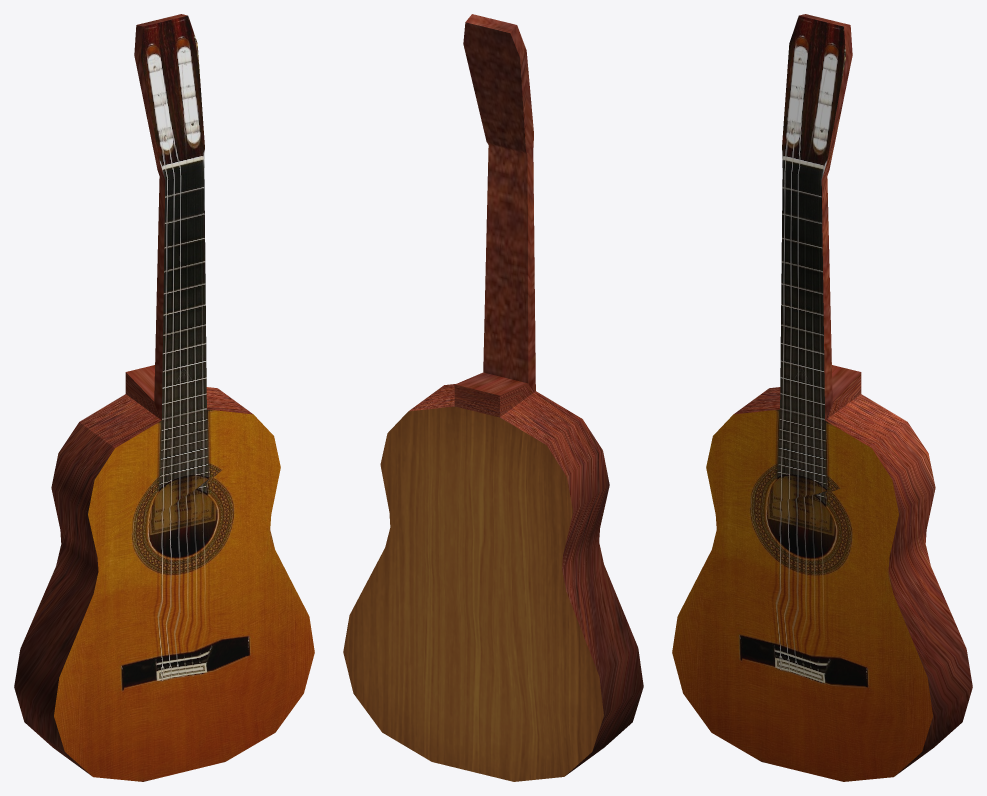
Rendered from guitar.fbx.
The picture shows the model from 3 angles, left to right: view 1: azimuth 30°, elevation 25°; view 2: azimuth 150°, elevation 25°; view 3: azimuth 330°, elevation 25°; orthographic projection.
Visible parts, largest first — view 1: pCube1; view 2: pCube1; view 3: pCube1.
Part boxes in pixels (x1,y1,x2,y2): pCube1: (14,14,314,781); pCube1: (343,14,643,781); pCube1: (672,14,972,781).
Bounding box in the file's own units: 2.04 × 5.5 × 0.5542.
Materials: 3 (3 with a texture image).
